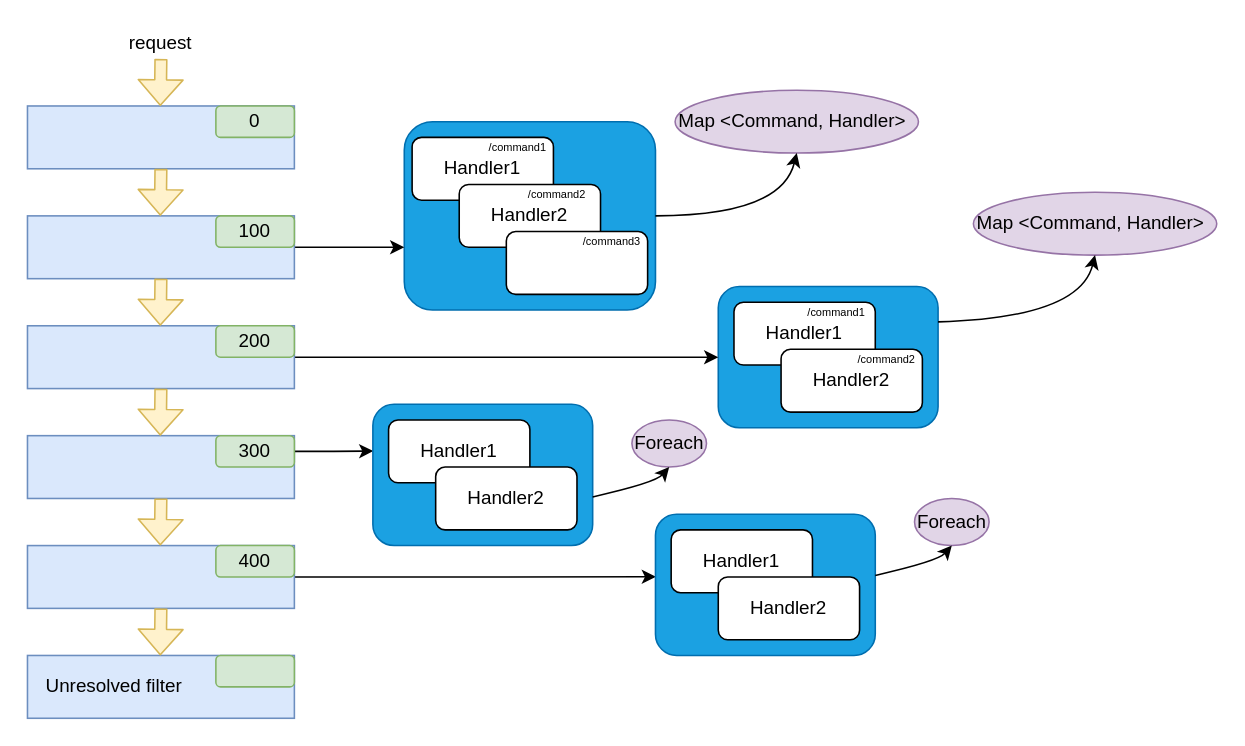
Some shapes in this 1245 by 746 pixel diagram are drawn without their labels. Each missing label, with the box of its shape:
CallbackQuery filter: (26, 324, 294, 389)
Cancel filter: (26, 104, 294, 169)
Handler3: (505, 230, 648, 294)
Max val: (214, 654, 294, 687)
Message filter: (26, 214, 294, 279)
Poll filter: (26, 434, 294, 498)
PollAnswer filter: (26, 544, 294, 608)
